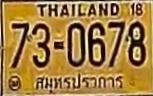0: (67, 22, 84, 66)
3: (31, 23, 49, 66)
6: (87, 22, 104, 66)
7: (11, 22, 28, 67), (107, 21, 124, 66)
8: (127, 20, 145, 66)
SPK: (33, 70, 125, 90)
